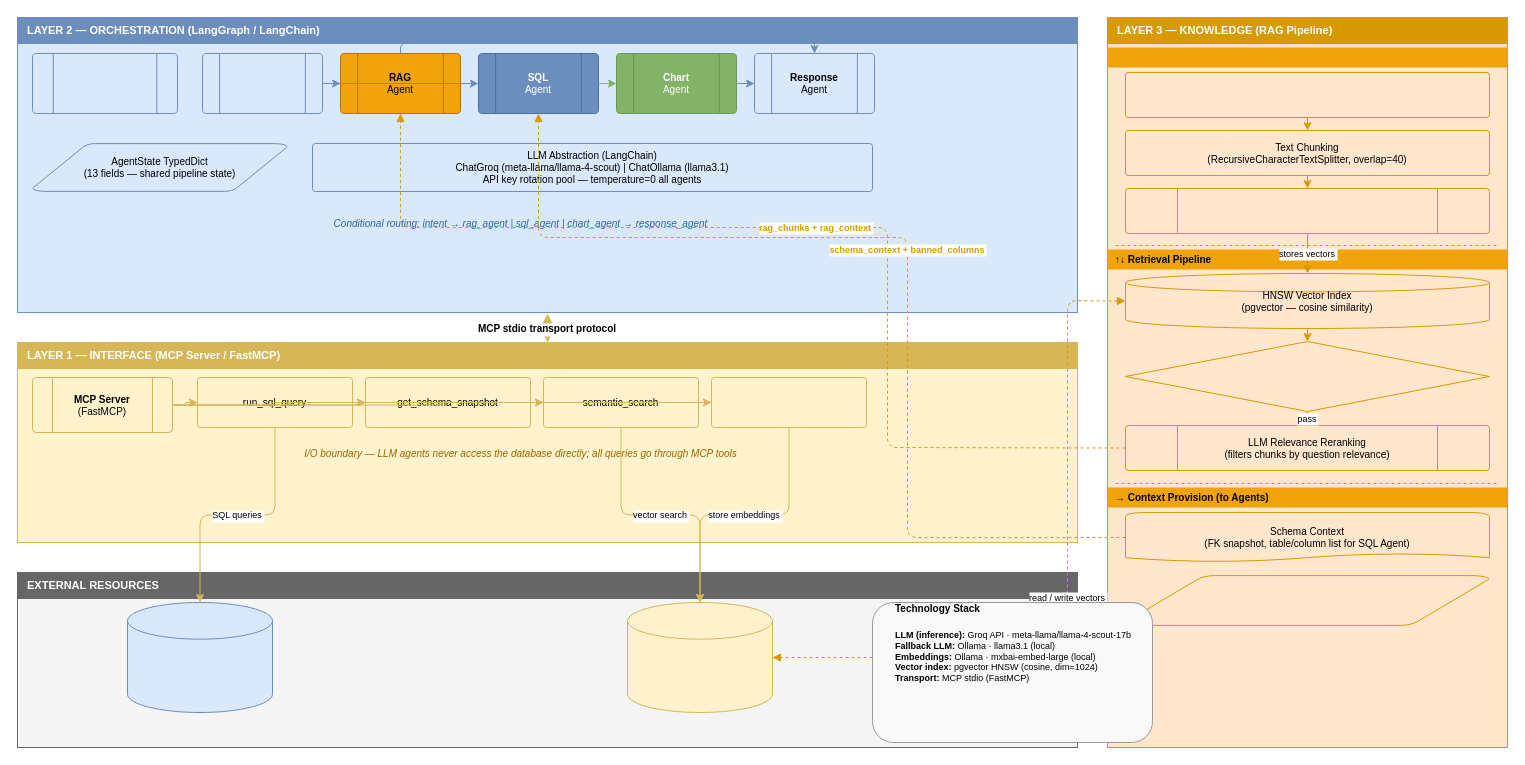
This 1525x765 diagram has some shape labels left out. The box of each missing label's shape, as (x1, y1, x2, y2) in pixels:
Banned Columns Registry (persisted non-existent column blocklist): (1124, 574, 1490, 626)
Document Ingestion (PDF / DOCX / TXT source files): (1124, 72, 1490, 118)
embed_and_store: (710, 376, 866, 428)
Embedding via Ollama (mxbai-embed-large — local, no API key): (1124, 188, 1490, 234)
LangGraph StateGraph + DAG Conditional routing: (32, 52, 178, 114)
Orchestrator Agent: (202, 52, 322, 114)
pgvector Document store (HNSW index, cosine): (626, 602, 772, 712)
PostgreSQL Relational database (AdventureWorks schema): (126, 602, 272, 712)
Similarity threshold gate (score ≥ 0.55 → include; else fallback): (1124, 340, 1490, 412)
↓ Ingestion Pipeline: (1107, 47, 1507, 67)
